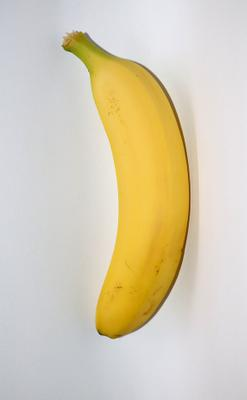banana: (0, 0, 247, 400)
